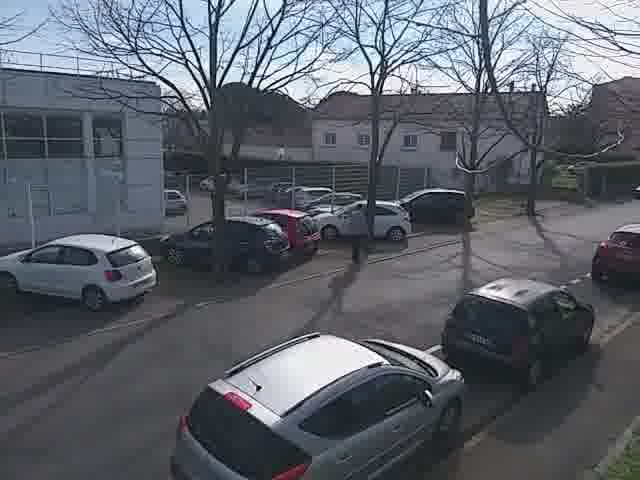persona: (342, 192, 372, 270)
